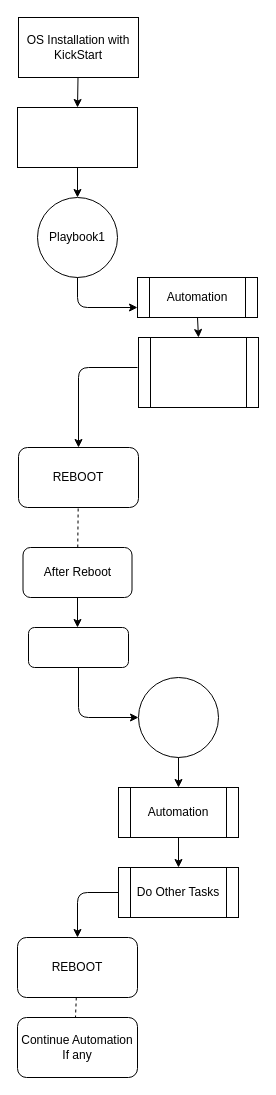
Some shapes in this 276 by 1095 pixel diagram are drawn without their labels. The shapes that lost their labels are listed below. From the top down, each one's centre as x and y in pixels, then its label:
point 77,137: Post OS Installation
point 198,372: Add systemd entry for next playbook "playbook2"
point 78,647: Systemd
point 178,717: Playbook2
